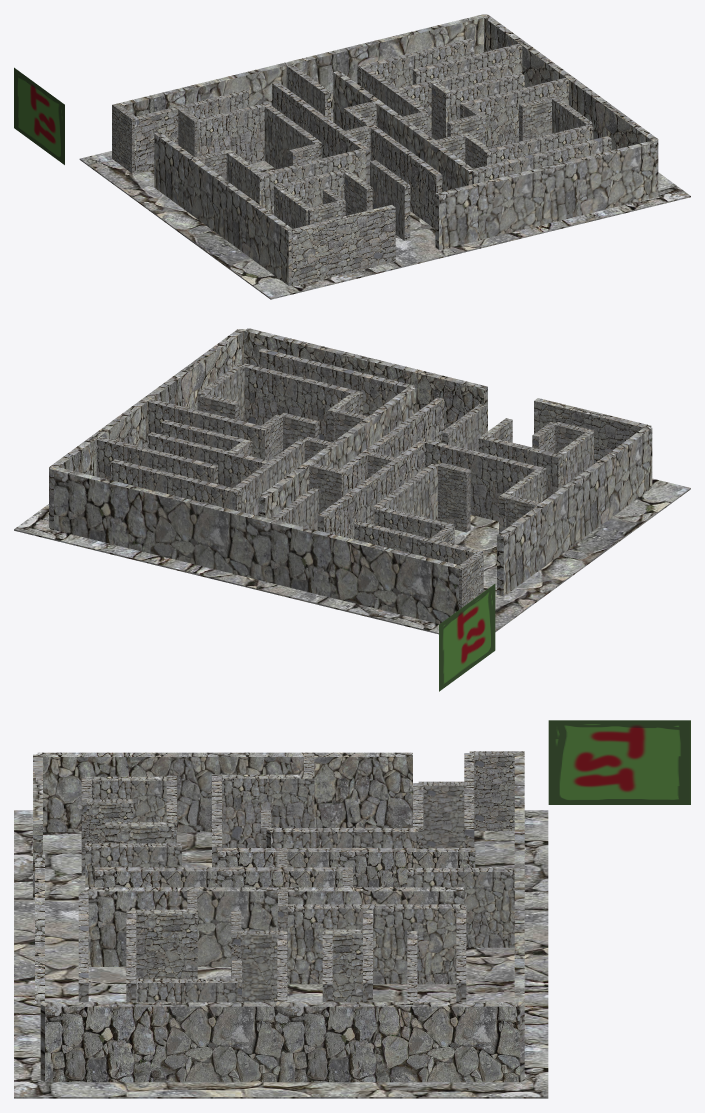
File: 2labirint.gltf
3 renders of one model, top to bottom at view 1: azimuth 30°, elevation 25°; view 2: azimuth 150°, elevation 25°; view 3: azimuth 270°, elevation 25°, orthographic. The views are drawn at different scales.
Visible parts, largest first — view 1: wall.037, tla, wall.02, wall.032, wall.01, wall.034, wall.010, wall.08, Trigger.001, wall.028, wall.030, wall.043 (+27 smaller); view 2: wall.032, tla, wall.02, wall.034, wall.037, wall.016, wall.010, wall.05, Trigger.001, wall.06, wall.019, wall.08 (+27 smaller); view 3: wall.034, tla, wall.02, wall.010, Trigger.001, wall.012, wall.06, wall.04, wall.08, wall.033, wall.015, wall.031 (+24 smaller).
Part boxes in pixels (<box>): wall.037: <box>435,140,655,249</box>; tla: <box>79,108,690,299</box>; wall.02: <box>154,132,292,285</box>; wall.032: <box>115,15,483,116</box>; wall.01: <box>291,205,395,286</box>; wall.034: <box>481,14,658,195</box>; wall.010: <box>333,71,474,191</box>; wall.08: <box>344,107,442,228</box>; Trigger.001: <box>14,67,64,164</box>; wall.028: <box>197,103,264,163</box>; wall.030: <box>133,90,248,173</box>; wall.043: <box>460,78,568,148</box>; wall.032: <box>54,467,462,623</box>; tla: <box>14,478,690,634</box>; wall.02: <box>497,427,652,596</box>; wall.034: <box>49,329,245,529</box>; wall.037: <box>244,328,487,432</box>; wall.016: <box>243,363,362,440</box>; wall.010: <box>258,387,415,518</box>; wall.05: <box>424,439,546,521</box>; Trigger.001: <box>439,584,495,691</box>; wall.06: <box>317,440,424,539</box>; wall.019: <box>258,348,414,416</box>; wall.08: <box>339,397,443,497</box>; wall.034: <box>40,1002,524,1082</box>; tla: <box>14,810,548,1098</box>; wall.02: <box>37,752,412,832</box>; wall.010: <box>84,887,463,966</box>; Trigger.001: <box>548,720,690,804</box>; wall.012: <box>288,904,463,984</box>; wall.06: <box>217,848,475,887</box>; wall.04: <box>222,774,314,847</box>; wall.08: <box>94,867,352,887</box>; wall.033: <box>407,868,520,947</box>; wall.015: <box>136,909,197,988</box>; wall.031: <box>469,751,524,830</box>.
Size of the model in its own units: 422 by 56.22 by 407.
Materials: 2 (2 with a texture image).
